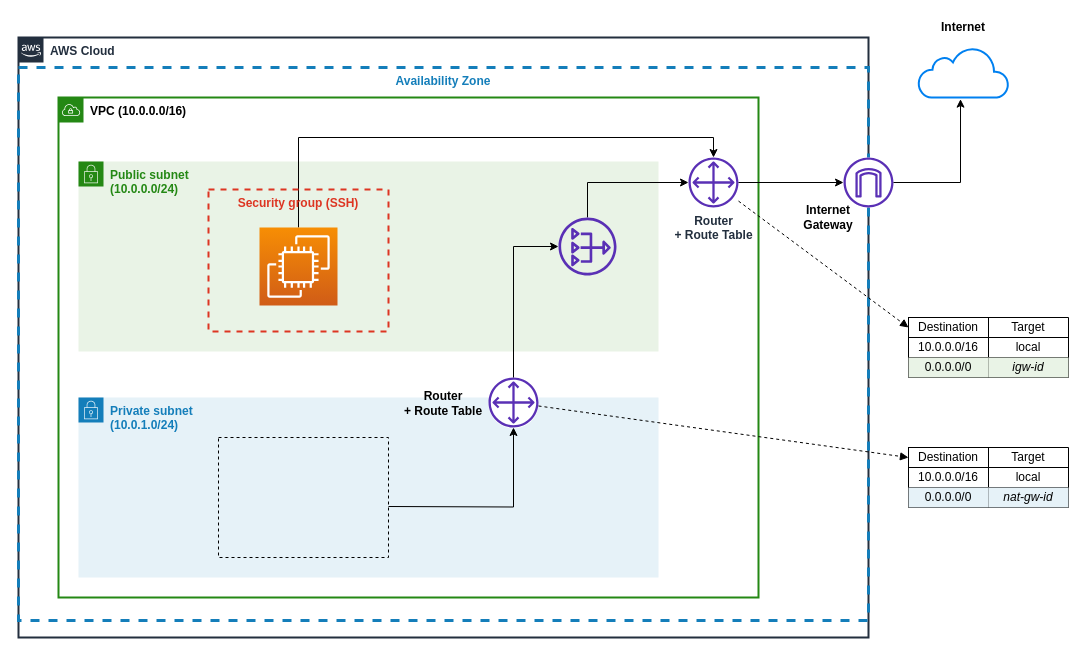
Image size: 1086x655. Some labels were removed from this diagram. The shapes that lost their labels are listed below. From the top down, each one's centre as x and y in pixels, then its label:
At [298,266]: "EC2".
At [587,246]: "NAT Gateway with Elastic IP".
At [303,497]: "Placeholder for something that needs to be inside a private subnet".
